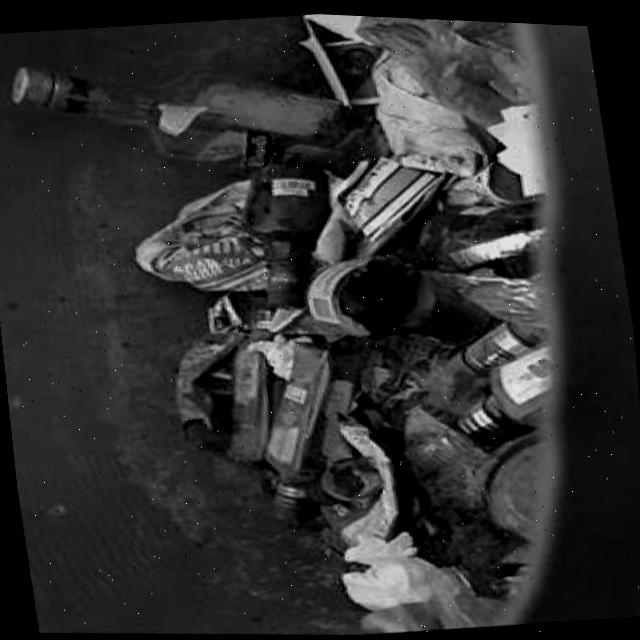Garbage: (11, 11, 554, 633)
Glass_bottle: (50, 74, 390, 174), (267, 341, 365, 522), (309, 256, 495, 340), (246, 167, 331, 308), (224, 294, 287, 462), (460, 341, 554, 434), (301, 22, 383, 105), (467, 317, 542, 368)
Metal: (486, 429, 543, 533), (454, 270, 543, 321), (324, 456, 385, 501)
Plastic: (138, 182, 270, 293), (12, 73, 56, 112), (441, 347, 484, 383)
Plastic_bottle: (421, 198, 541, 273)
Thermocol: (302, 11, 363, 38)
can: (439, 157, 537, 211)
